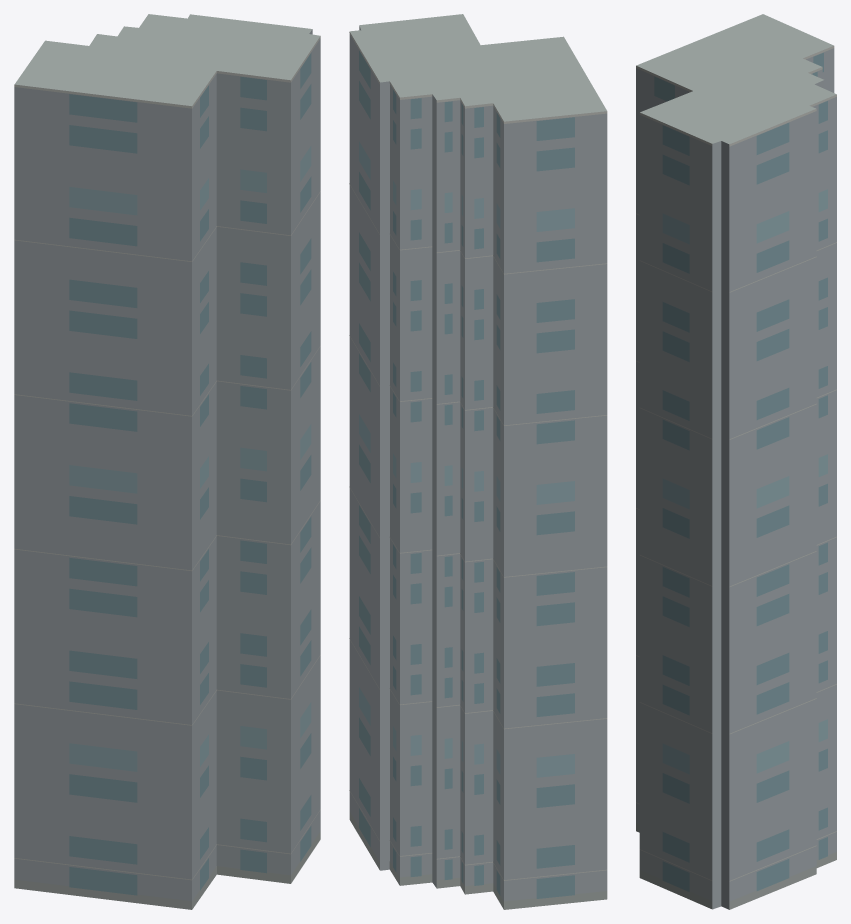
Rendered from survey-upis-32993883.glb.
3 views of the same model, side by side, from view 1: azimuth 30°, elevation 25°; view 2: azimuth 150°, elevation 25°; view 3: azimuth 270°, elevation 25° (orthographic). The views are drawn at different scales.
Parts seen in each view (by area): view 1: survey-upis-32993883.tmp; view 2: survey-upis-32993883.tmp; view 3: survey-upis-32993883.tmp.
Part boxes in pixels (<box>): survey-upis-32993883.tmp: <box>14,14,320,909</box>; survey-upis-32993883.tmp: <box>349,14,607,909</box>; survey-upis-32993883.tmp: <box>636,14,836,909</box>.
Size of the model in its own units: 28.98 by 79.3 by 18.87.
